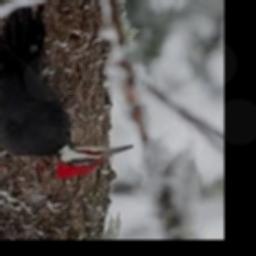Woodpecker: (0, 5, 133, 180)
